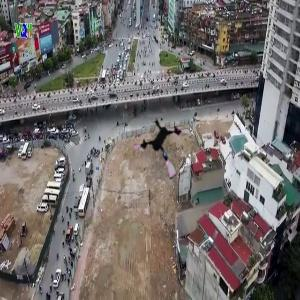drone: (132, 115, 198, 181)
